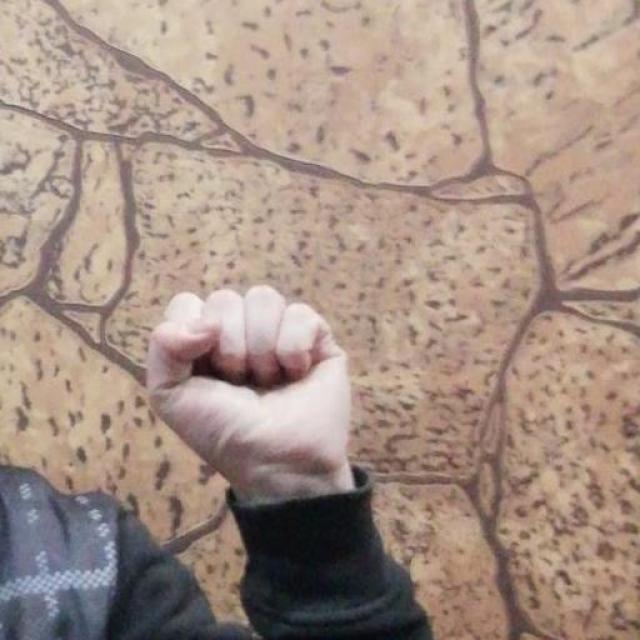hand: (144, 282, 356, 503)
